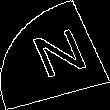N_S: (21, 24, 89, 86)
